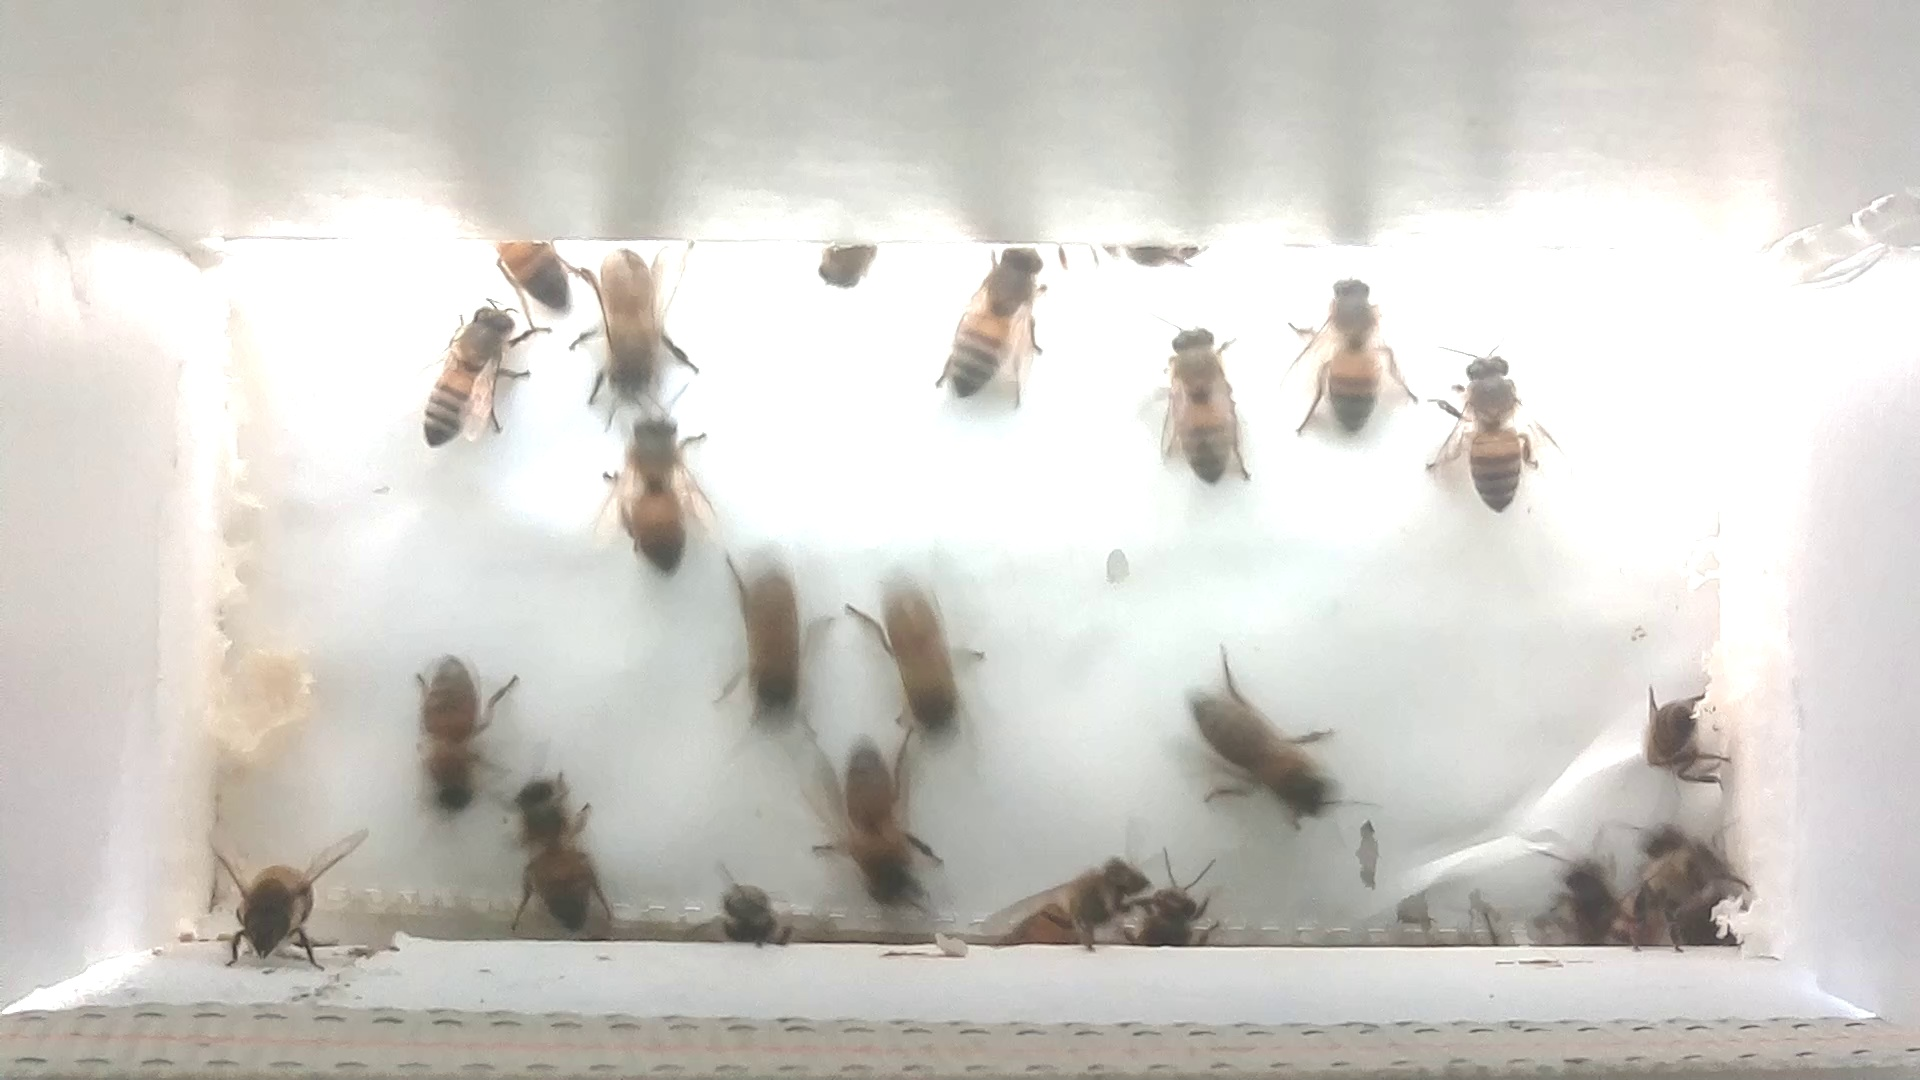bee: (1168, 634, 1371, 840), (555, 227, 713, 430), (1411, 324, 1568, 527), (1273, 256, 1423, 464), (583, 397, 735, 596), (396, 270, 555, 458), (791, 727, 943, 916), (191, 820, 368, 978), (475, 757, 625, 943), (923, 233, 1064, 426), (1124, 305, 1263, 495), (851, 570, 986, 744), (704, 556, 831, 742), (975, 840, 1156, 953), (405, 651, 514, 825), (1611, 671, 1749, 806), (463, 216, 593, 347), (1530, 827, 1634, 960), (1120, 843, 1226, 964), (800, 224, 893, 306)
